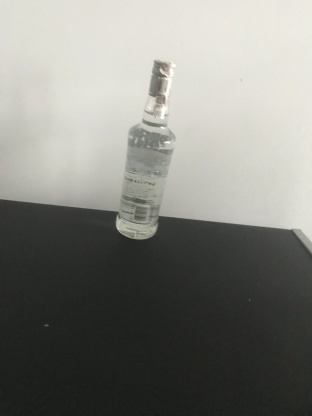nakretka: (147, 57, 177, 98)
